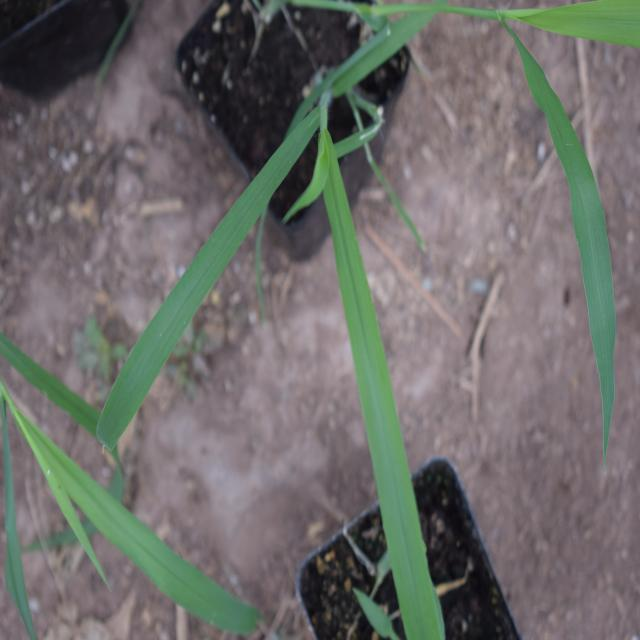crabgrass: (135, 86, 433, 612)
